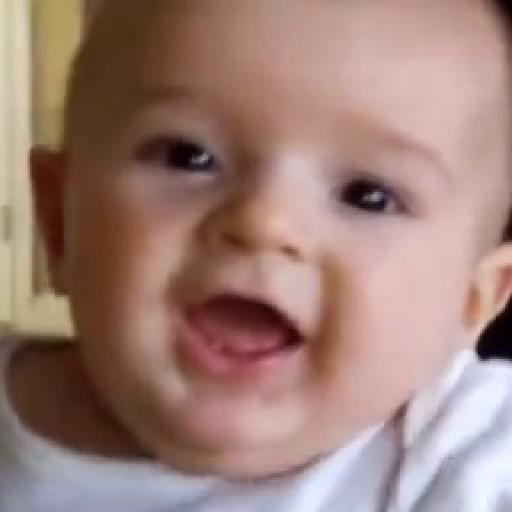Autism: (64, 0, 510, 453)
